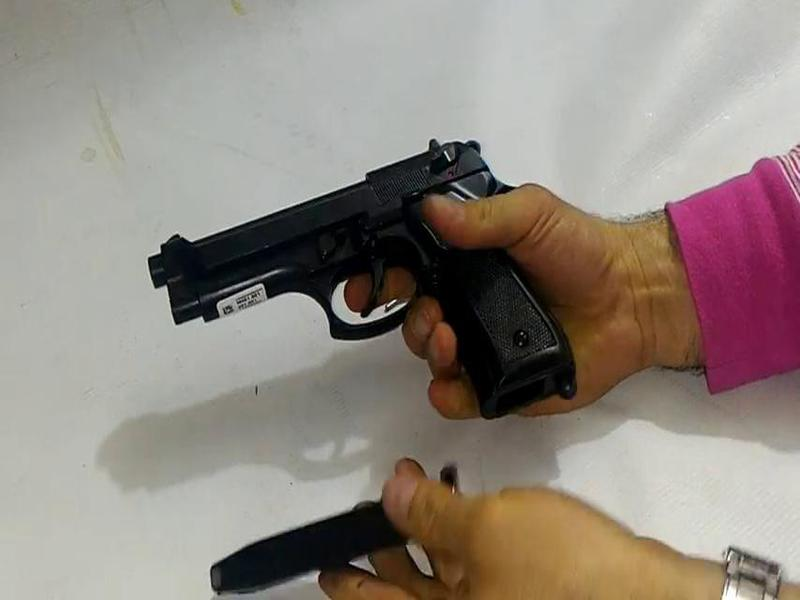Pistola: (106, 160, 577, 409)
